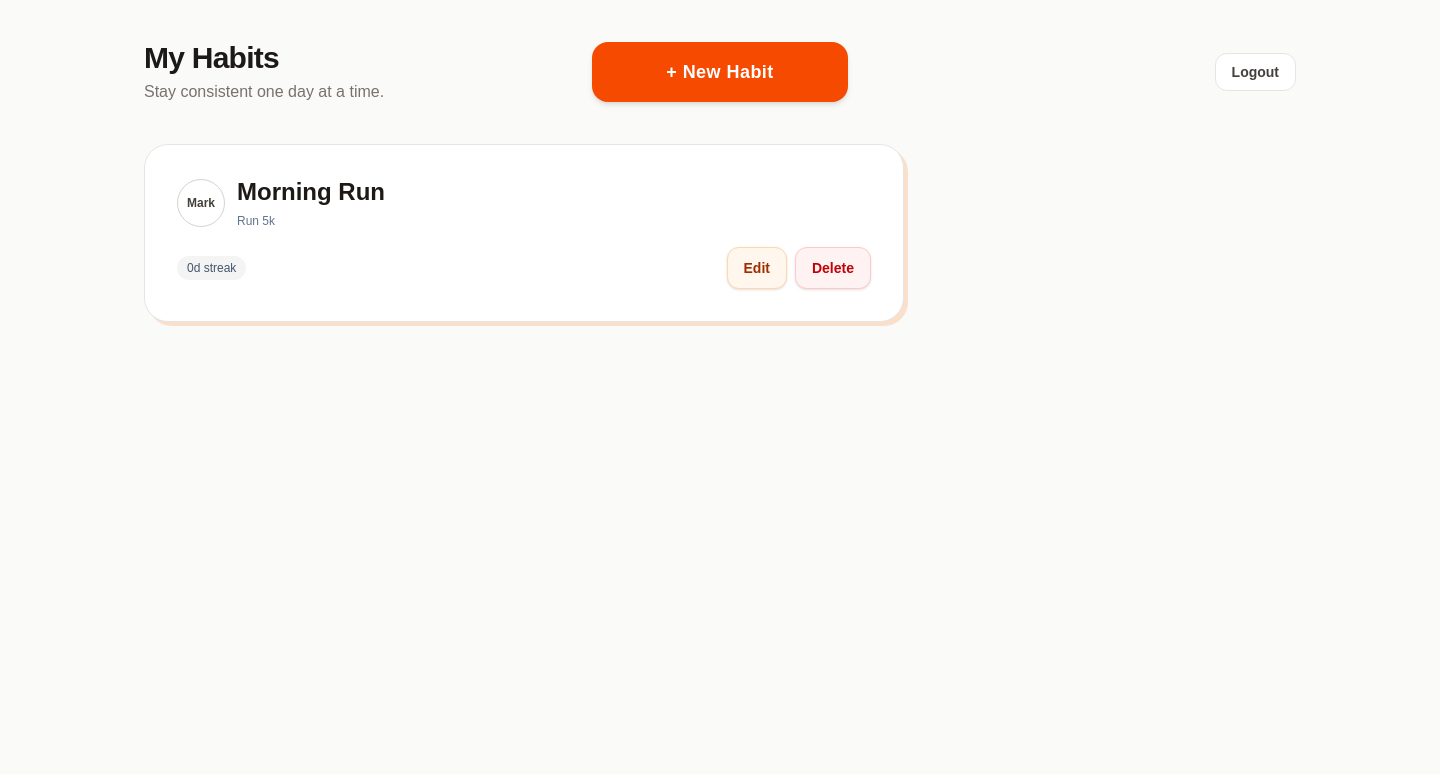
Test: habit form › edits an existing habit and preserves immutable fields
The width and height of the screenshot is (1440, 774).
Click the button with test id "habit-edit-morning-run" at (757, 268), box x1=726 y1=247 x2=787 y2=289
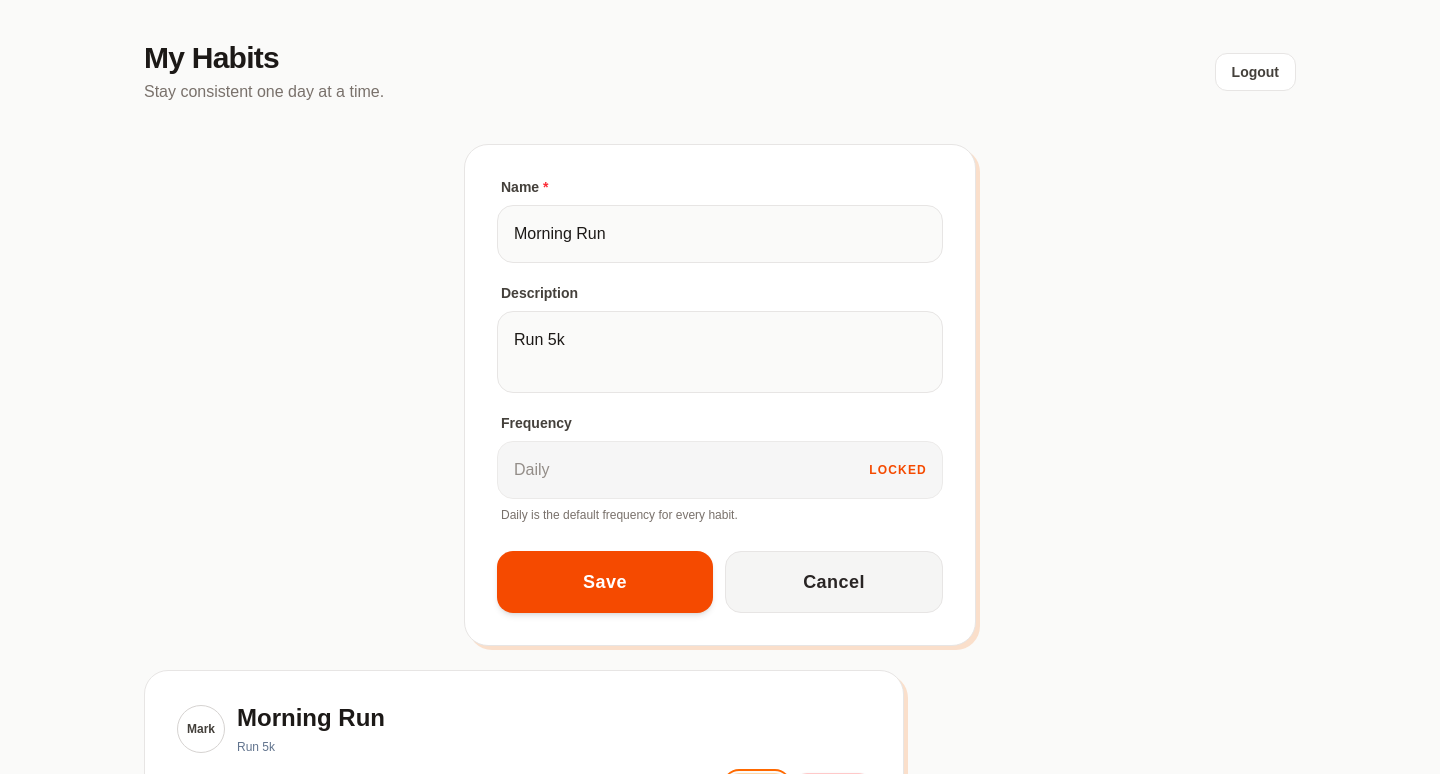
Replace the text in the field with test id "habit-name-input" with "Evening Run" at (720, 234), box x1=497 y1=205 x2=943 y2=263
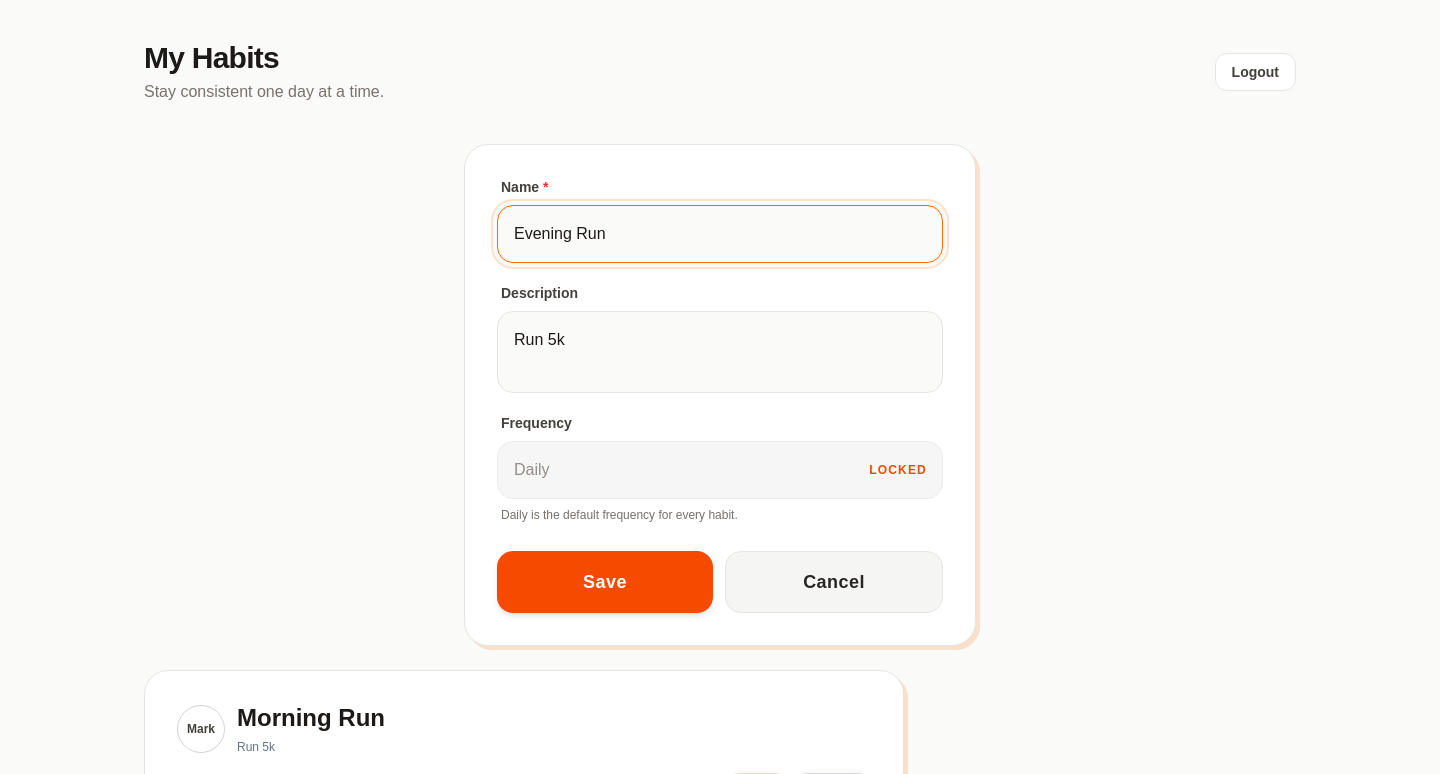
Click the button with test id "habit-save-button" at (605, 582), box x1=497 y1=551 x2=713 y2=613
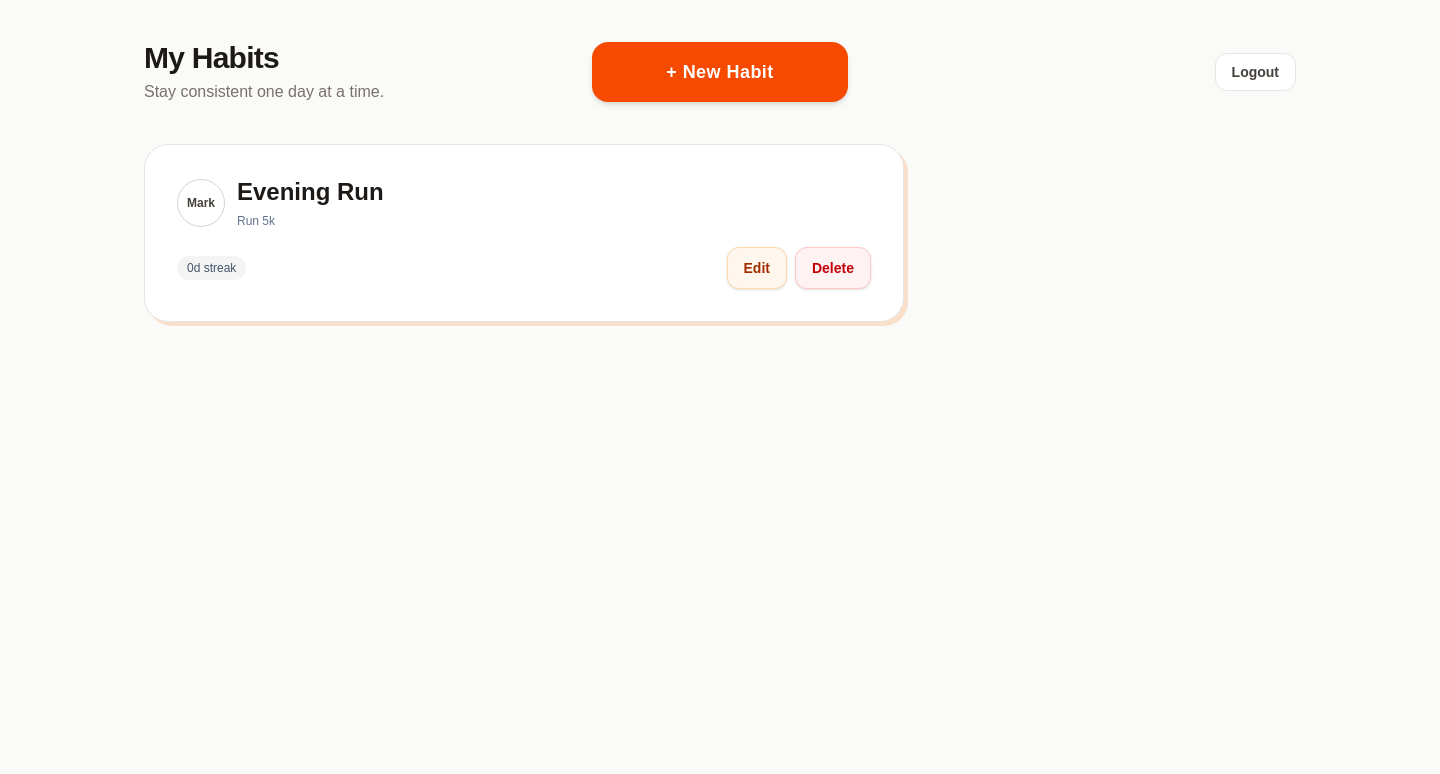
Result: the element with test id "habit-card-evening-run" is shown at x1=144 y1=144 x2=904 y2=322
Result: the heading "Evening Run" is shown at x1=237 y1=178 x2=384 y2=205
